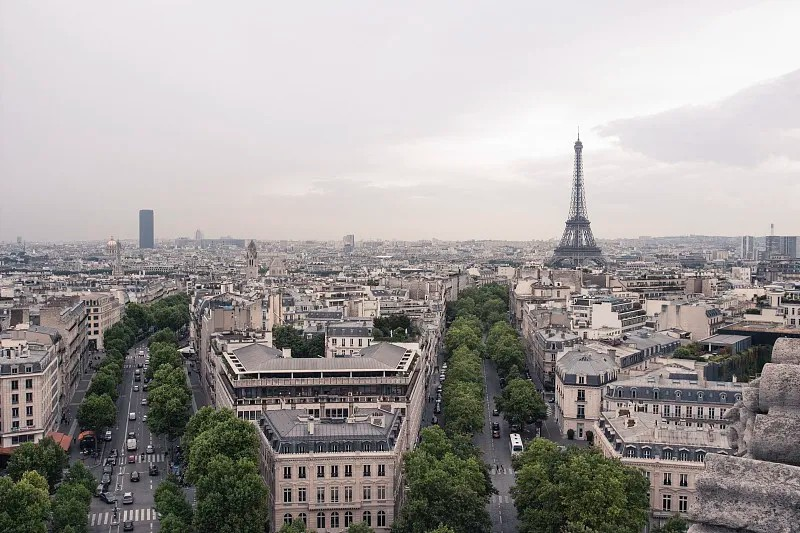Eiffel: (545, 125, 609, 270)
